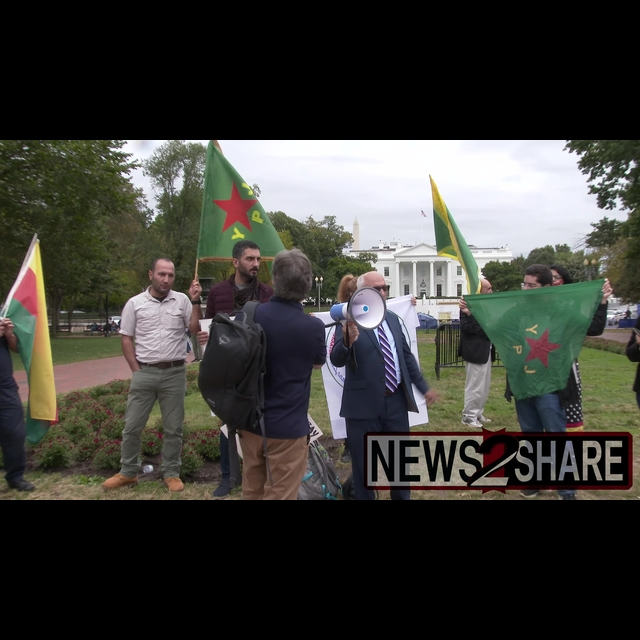YPJ: (460, 277, 604, 397), (199, 142, 294, 260)
